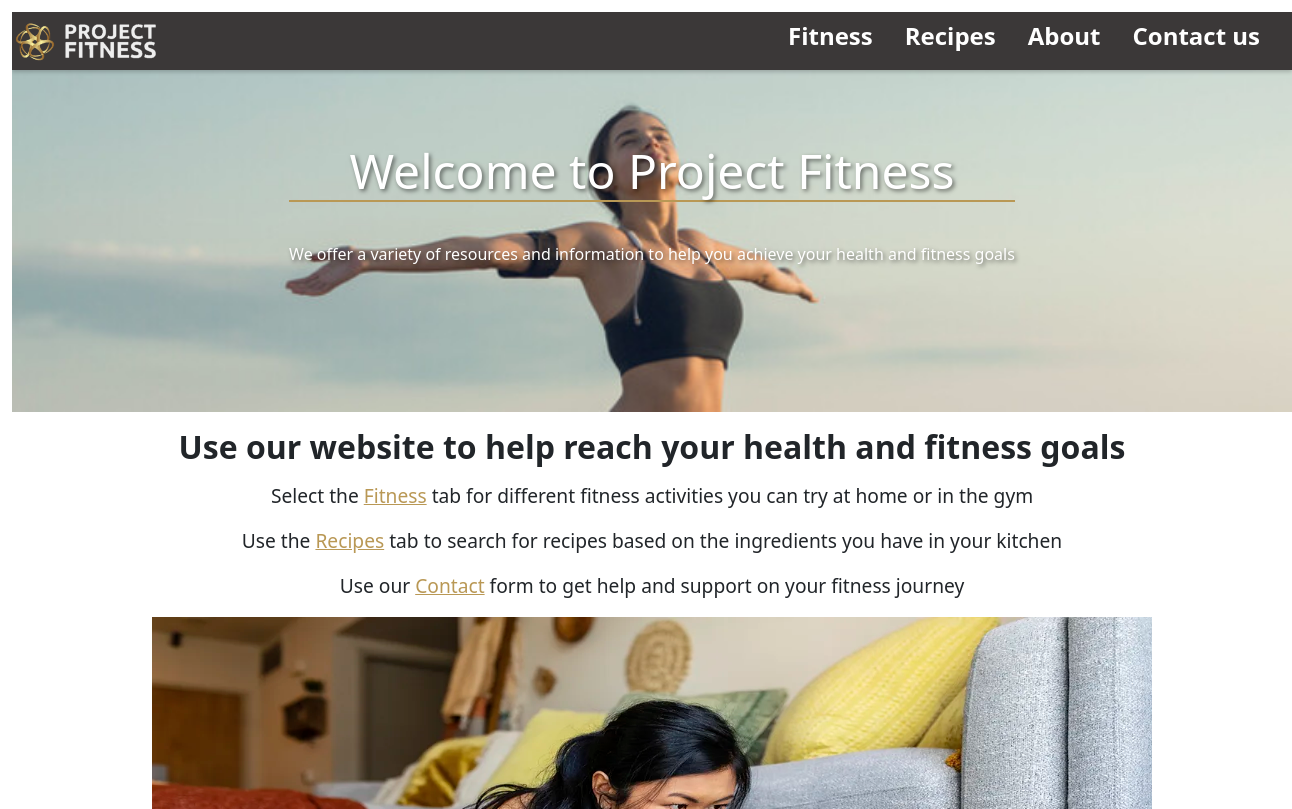
Home Page › displays the contact form link
The image size is (1292, 809).
Expected: the element with class "home-body" is shown, x1=179 y1=425 x2=1126 y2=599
Click the link to "/Contact": (450, 586) x1=415 y1=572 x2=484 y2=599
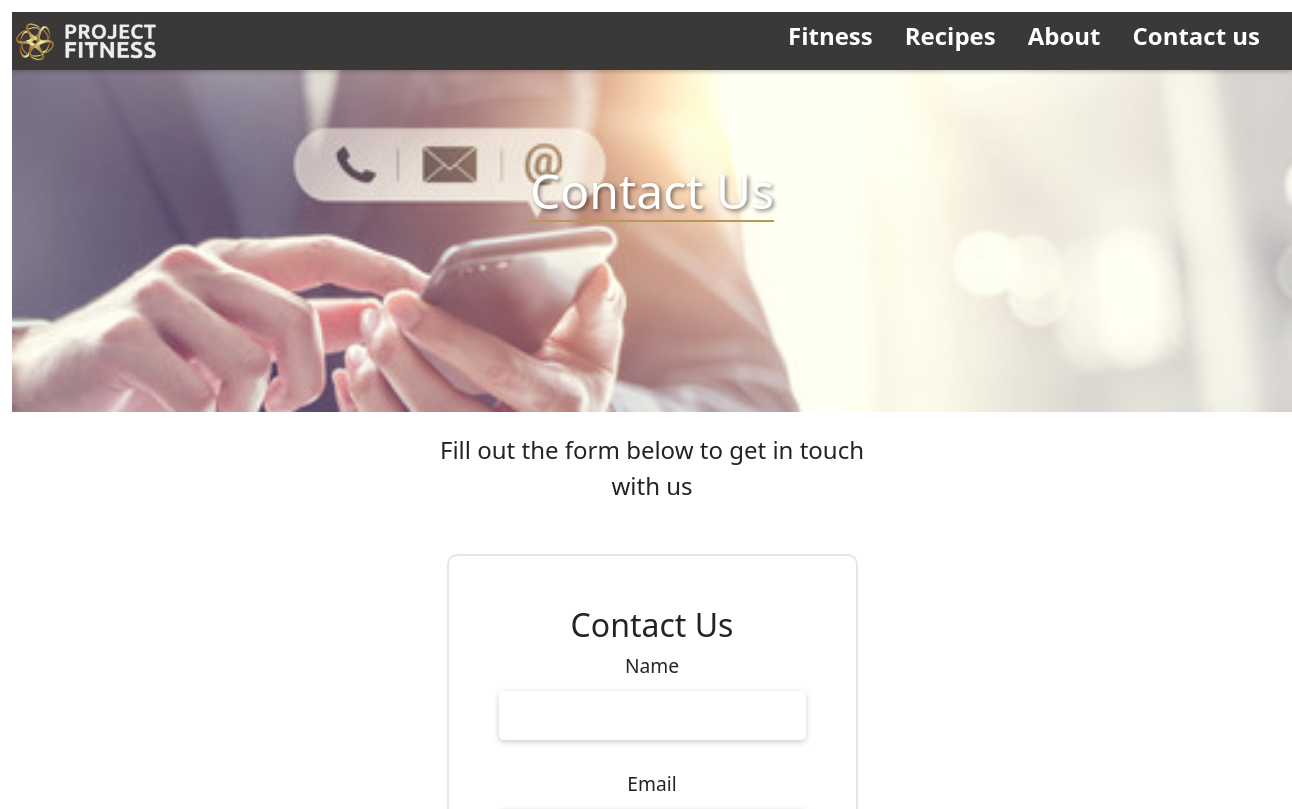
Expected: the 1st heading "Contact Us" is shown, x1=530 y1=162 x2=774 y2=222
